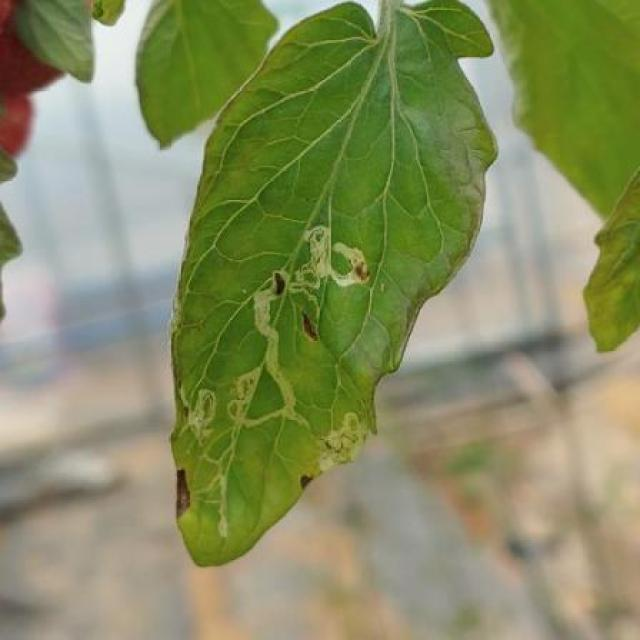Leaf Miner: (166, 3, 501, 571)
